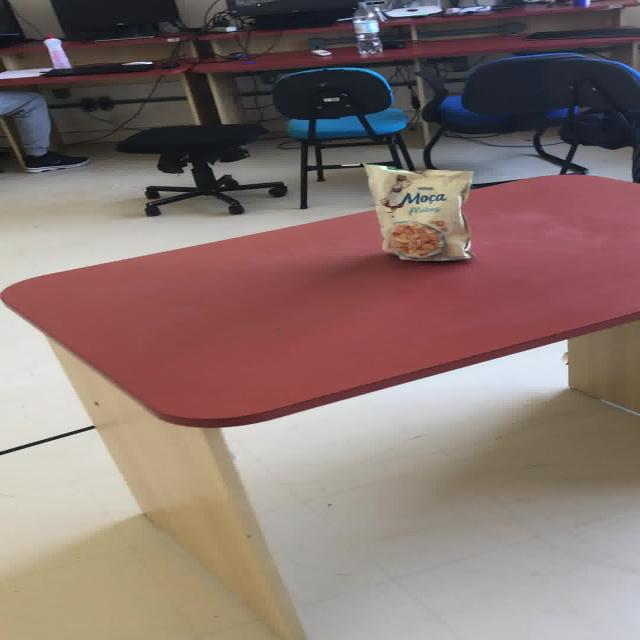corn flakes: (361, 162, 473, 260), (388, 220, 444, 257)
